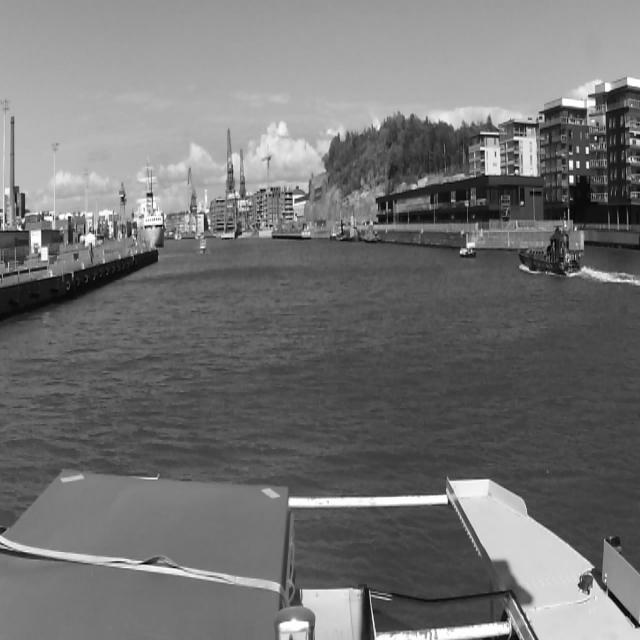ship: (518, 222, 584, 276), (138, 193, 164, 249), (362, 221, 382, 242), (348, 217, 360, 243), (458, 245, 476, 259), (197, 239, 207, 253)
